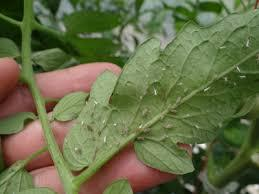Insects: (159, 122, 180, 132), (82, 121, 95, 133), (121, 123, 131, 138), (165, 107, 181, 116), (141, 104, 150, 118), (92, 143, 97, 163), (134, 134, 146, 142)
